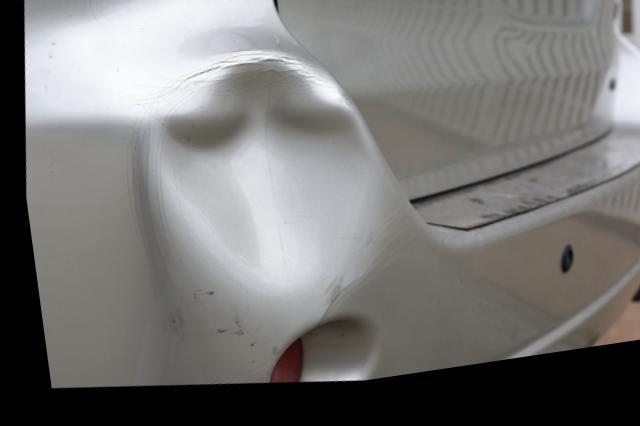dent: (147, 62, 373, 295)
